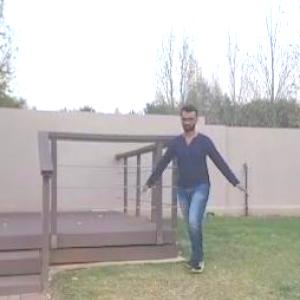land: (132, 91, 250, 294)
